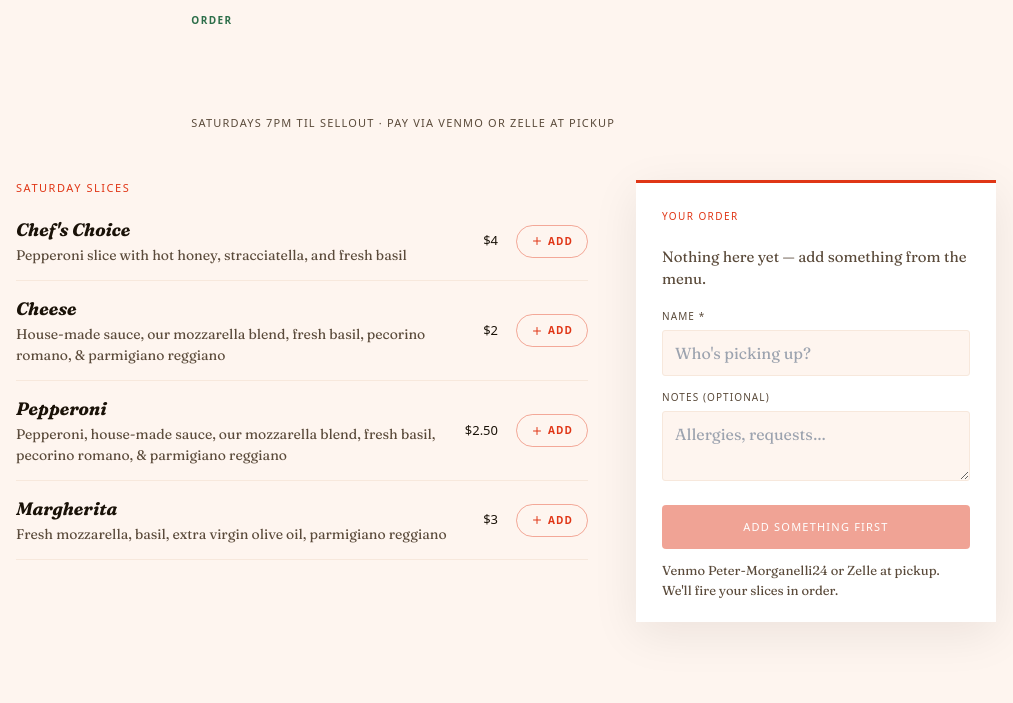
Test: OrderPage › add-on chips › prices Extra Basil at 50¢ rather than free
Expected: the text "Chef's Choice" is shown, [16,218,130,241]
Click the button "Add" next to "$4": (552, 241) [516,224,588,258]
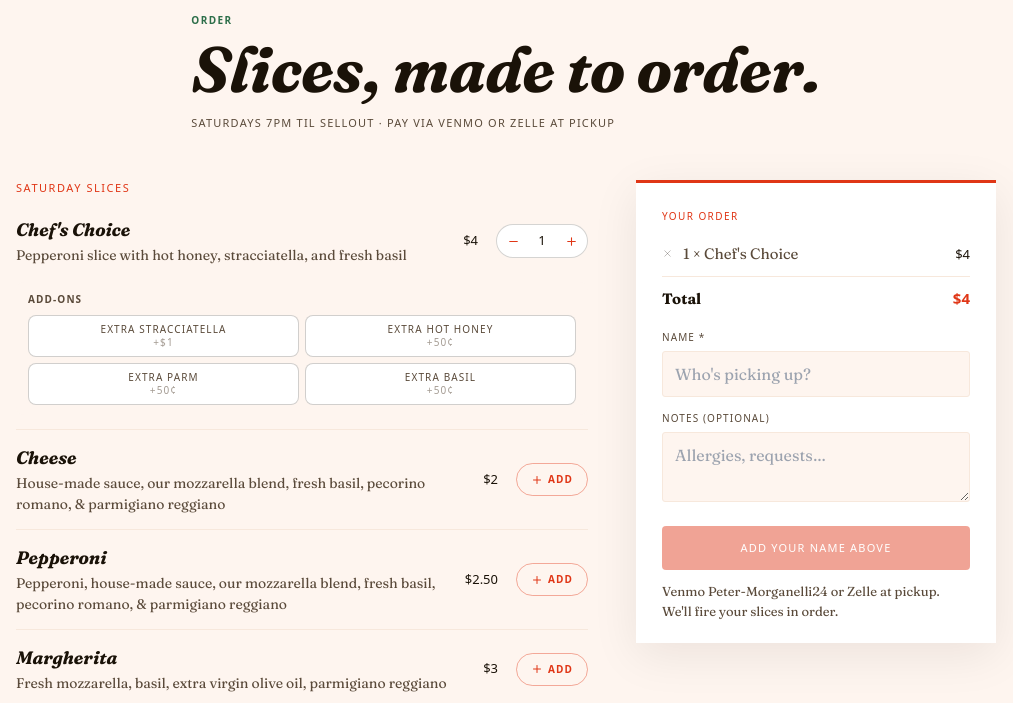
Expected: the button with class "addon-chip" showing "Extra Basil +50¢" is shown, [305,363,576,405]
Expected: the 3rd text with class "addon-chip-price" reads "+50¢", [427,383,454,397]
